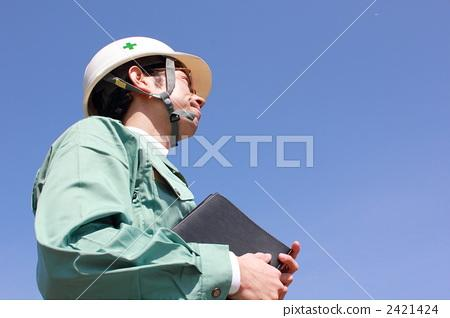helmet: (80, 36, 212, 111)
